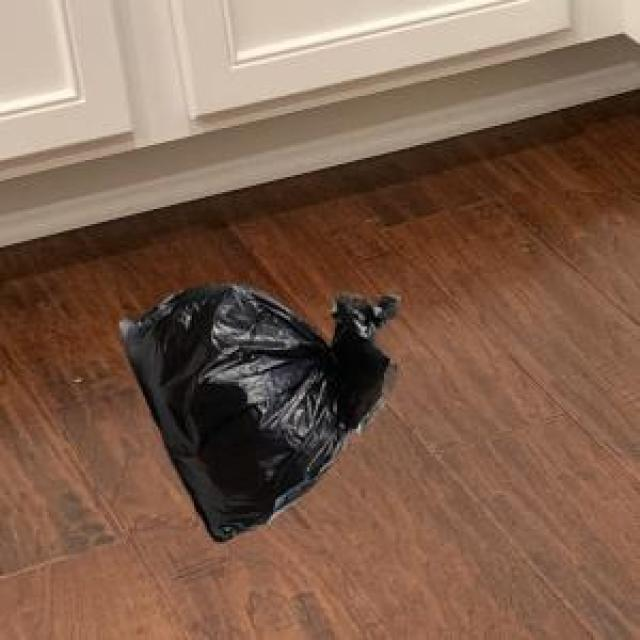miscellaneous trash: (115, 280, 394, 538)
